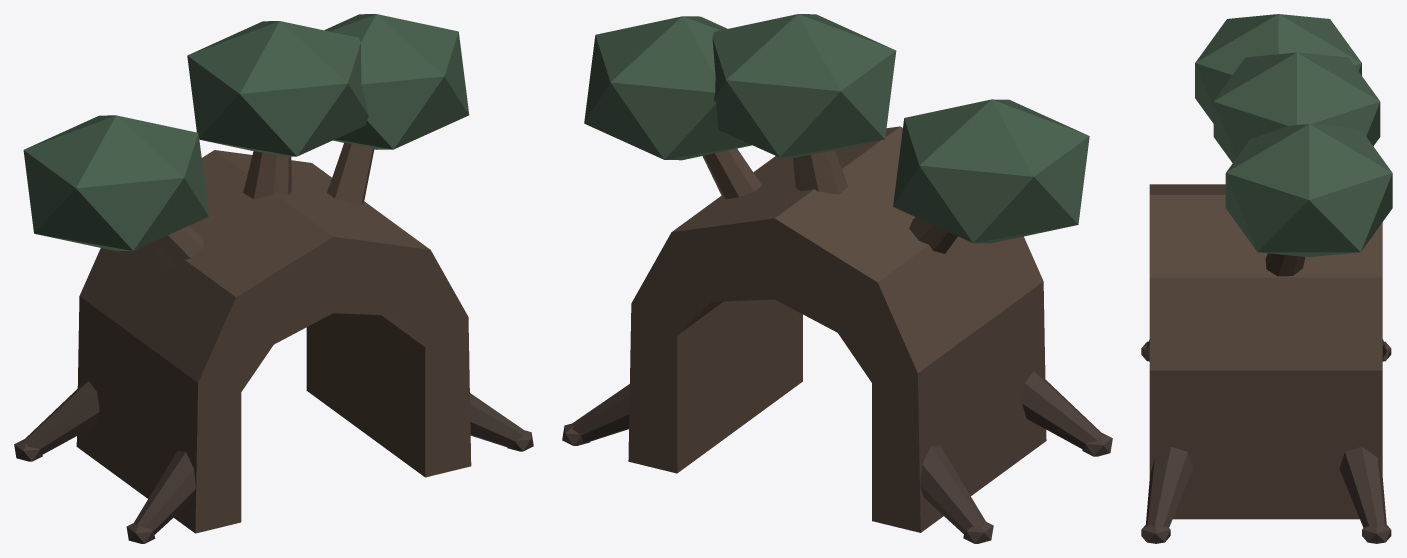
Rendered from HauntedWoods_HollowOakPassage_Simple.glb.
3 views of the same model, side by side, from view 1: azimuth 30°, elevation 25°; view 2: azimuth 150°, elevation 25°; view 3: azimuth 270°, elevation 25° (orthographic). The views are drawn at different scales.
Visible parts, largest first — view 1: HauntedWoods_HollowOakPassage_Simple; view 2: HauntedWoods_HollowOakPassage_Simple; view 3: HauntedWoods_HollowOakPassage_Simple.
Part boxes in pixels (x1,y1,x2,y2): HauntedWoods_HollowOakPassage_Simple: (14,14,533,543); HauntedWoods_HollowOakPassage_Simple: (562,14,1112,543); HauntedWoods_HollowOakPassage_Simple: (1141,14,1392,543).
Bounding box in the file's own units: 8.14 × 7.4 × 4.1.
